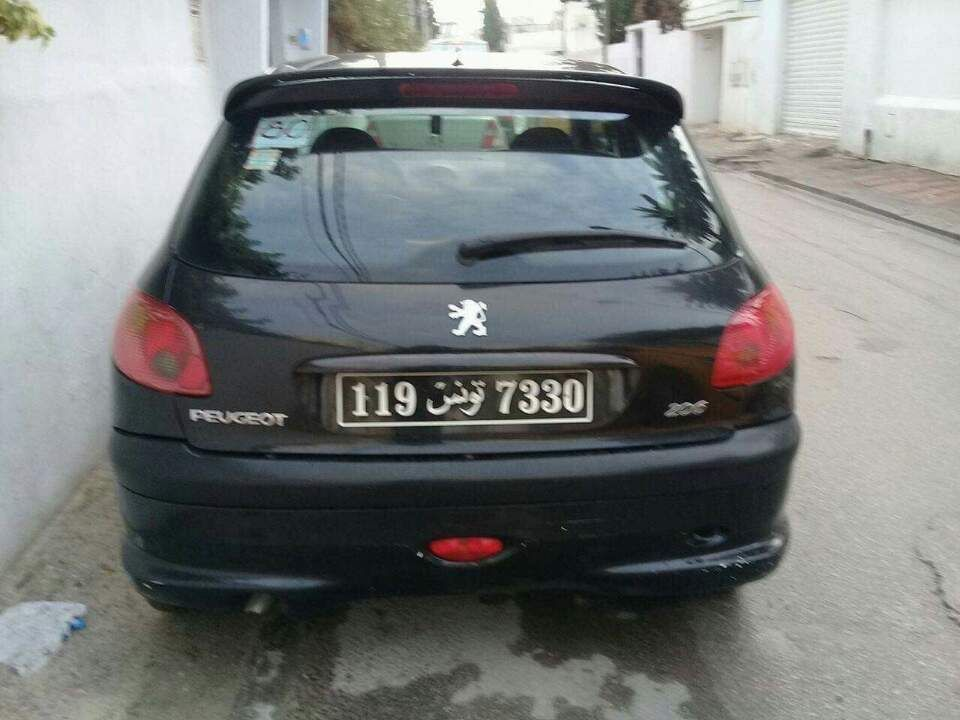LP: (335, 361, 596, 432)
